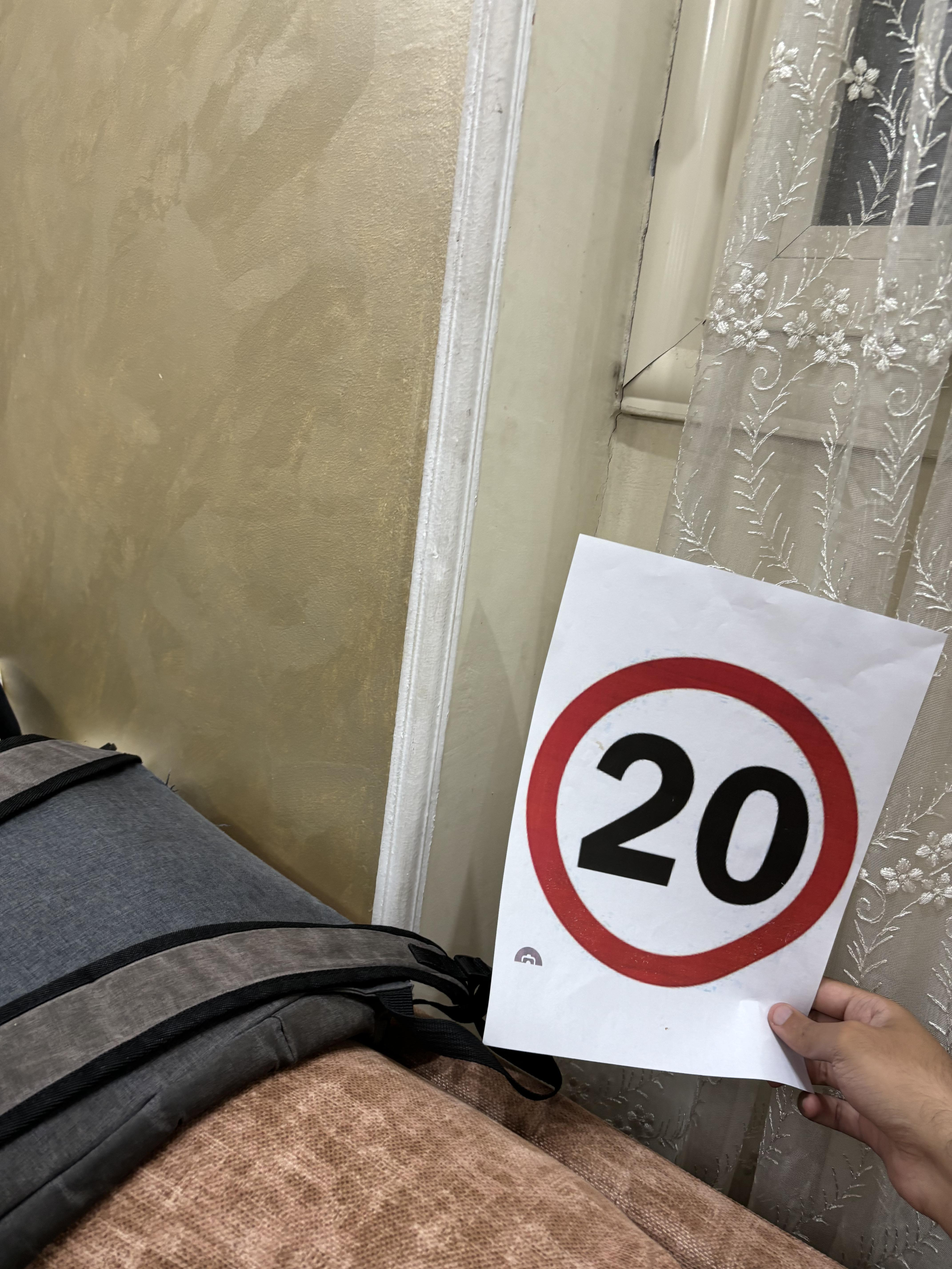20-Speed: (527, 656, 873, 989)
